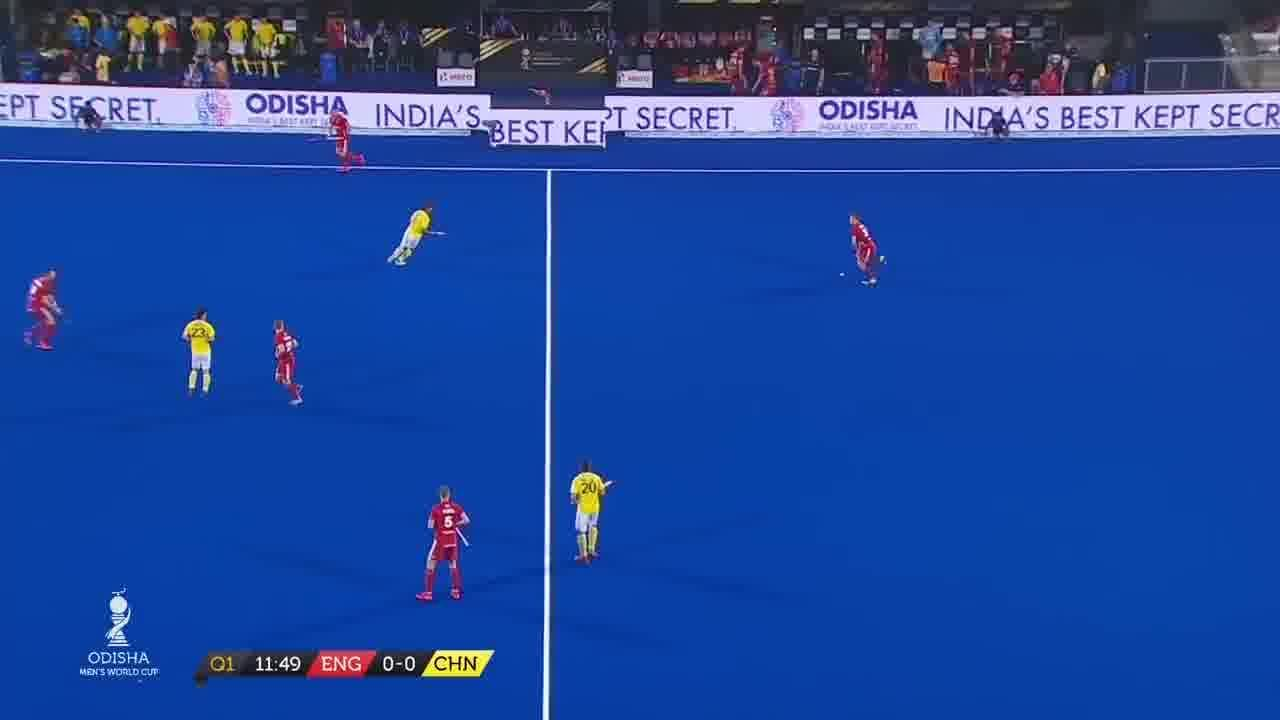ball: (836, 266, 849, 285)
